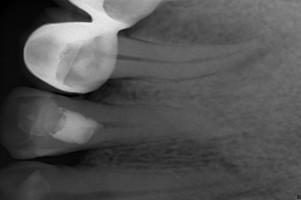Furcation Involvement: (225, 48, 273, 73)
